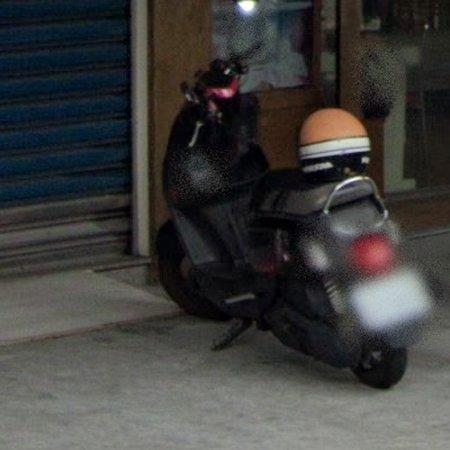motorcycles: (158, 60, 433, 388)
